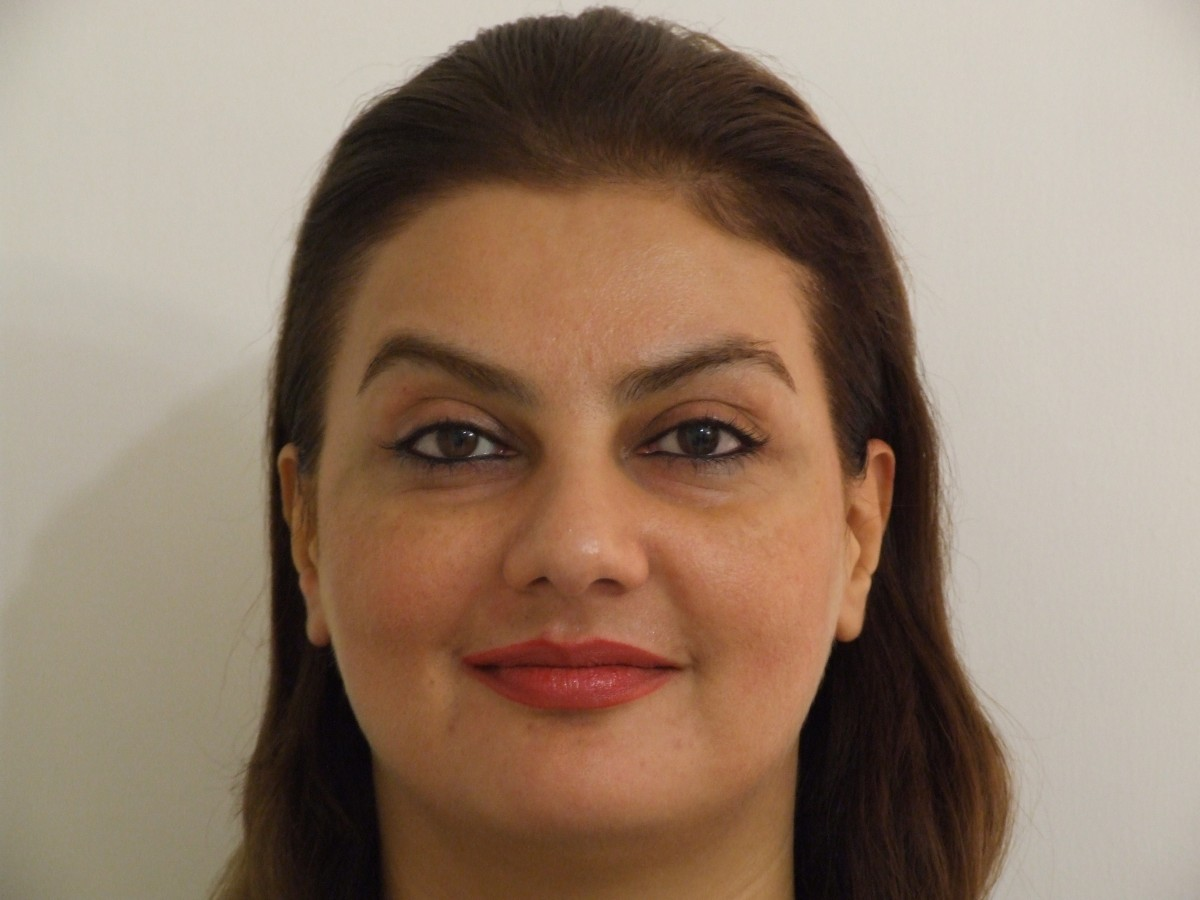neo: (414, 673, 465, 737)
occhiaia: (612, 452, 806, 530), (361, 455, 536, 528)
